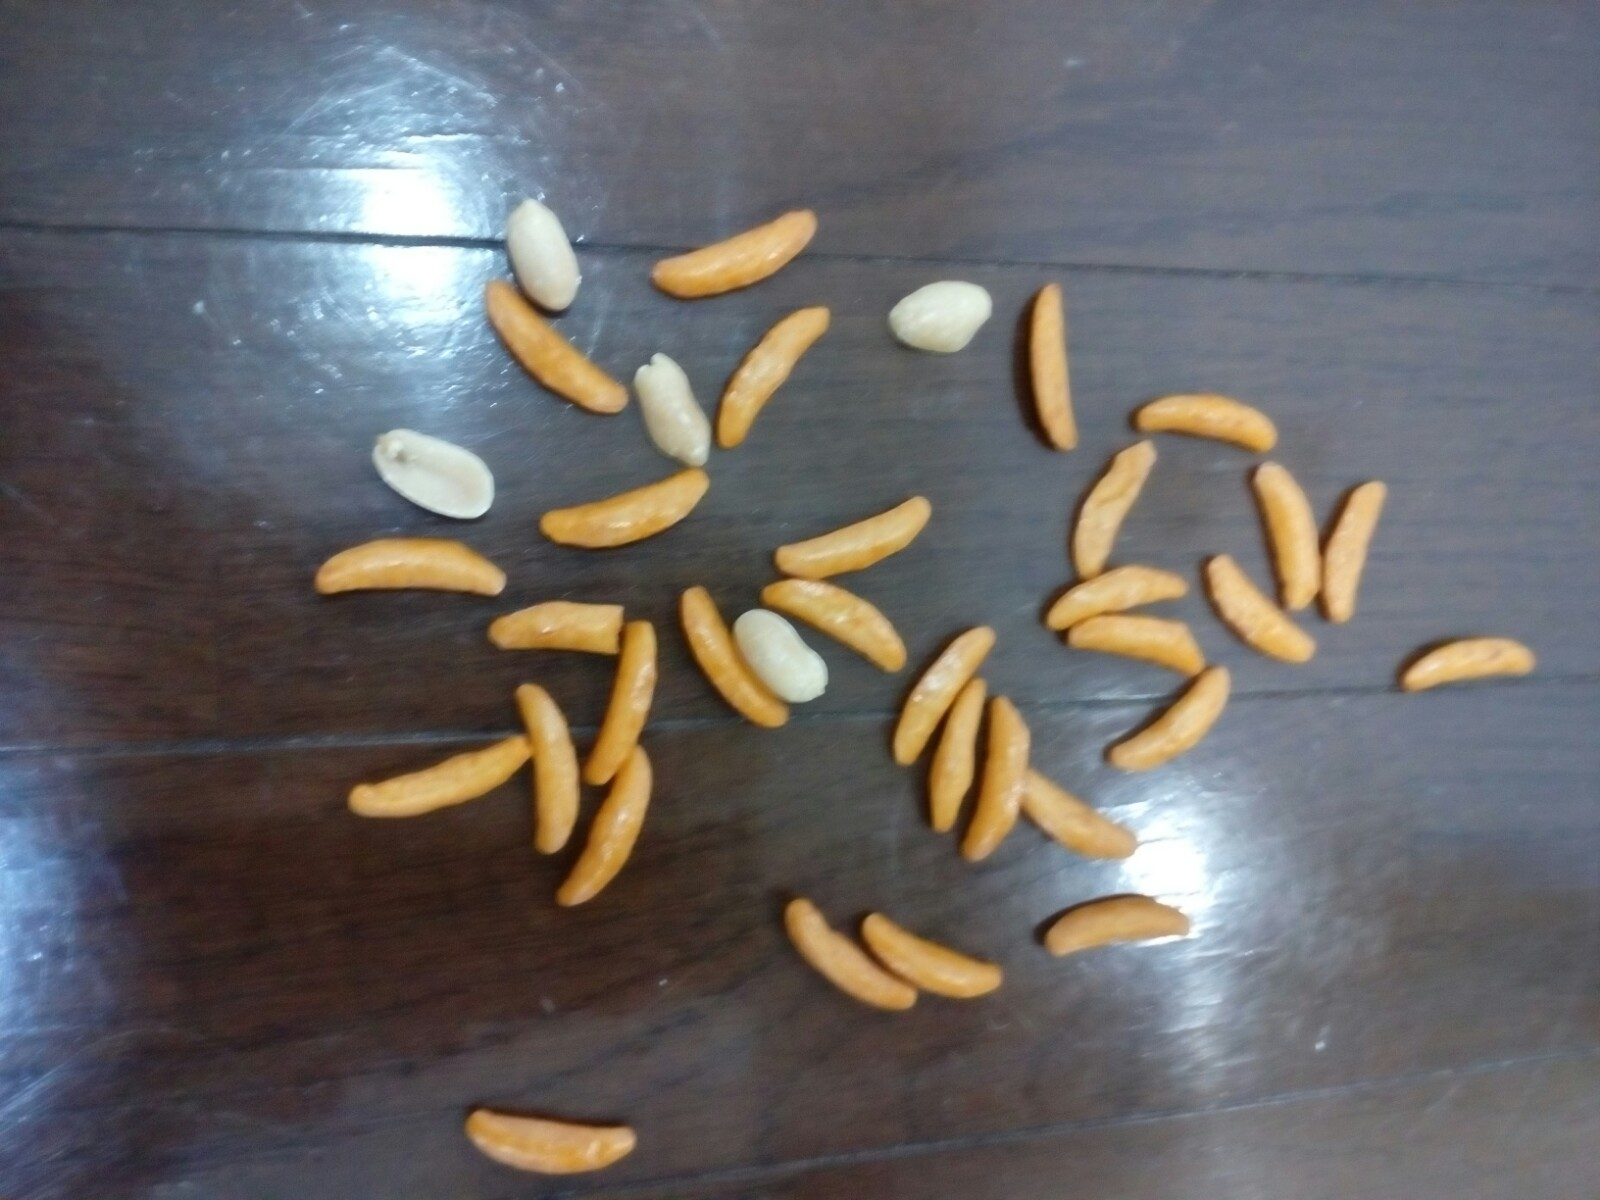peanut: (367, 411, 503, 531), (624, 342, 733, 479), (729, 601, 838, 711), (876, 271, 1000, 361), (501, 190, 595, 309)
